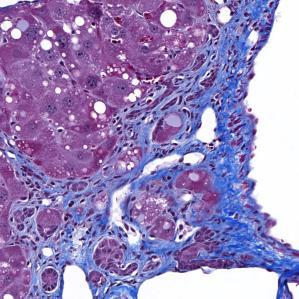fibrosis: (120, 78, 251, 180)
